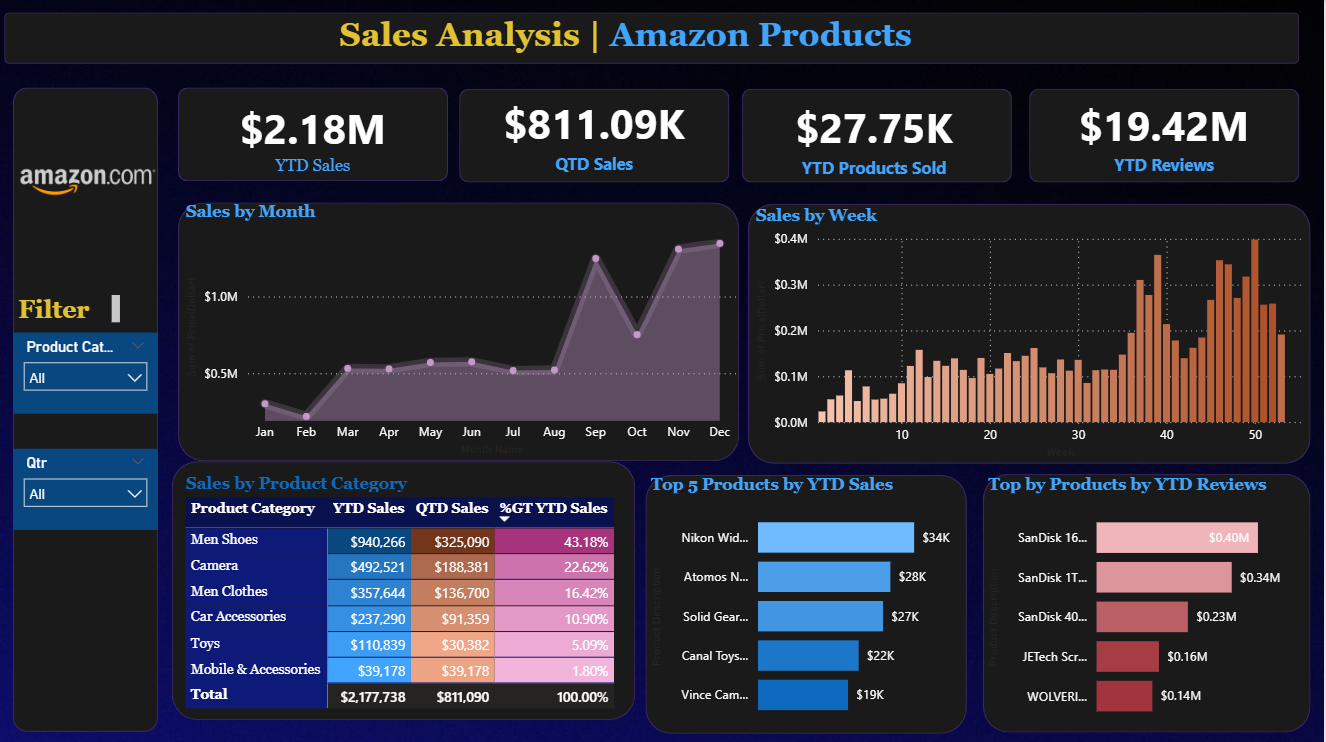

The page's visual inventory and layout, read from the dashboard file:
{"tool":"powerbi","page":{"name":"Page 1","canvas":[1280,720],"ordinal":0},"visuals":[{"type":"shape","box":[6,12.1,1249.9,49.5],"z":0},{"type":"textbox","box":[324.5,9.7,580.3,53.1],"z":1000},{"type":"shape","box":[14.5,84.5,140,622],"z":2000},{"type":"shape","box":[173.7,84.5,260.6,90.5],"z":3000},{"type":"card","fields":{"Values":["Amazon_Data.YTD Sales"]},"box":[173.7,86.9,260.6,90.5],"z":4000},{"type":"shape","box":[445.2,85.7,260.6,90.5],"z":5000},{"type":"shape","box":[717.8,85.7,260.6,90.5],"z":6000},{"type":"shape","box":[995.3,85.7,260.6,90.5],"z":7000},{"type":"card","fields":{"Values":["Amazon_Data.QTD Sales"]},"box":[445.2,83.2,260.6,91.7],"z":8000},{"type":"card","fields":{"Values":["Amazon_Data.YTD Products Sold"]},"box":[715.4,89.3,260.6,88.1],"z":9000},{"type":"card","fields":{"Values":["Amazon_Data.YTD Reviews"]},"box":[995.3,84.5,260.6,92.9],"z":10000},{"type":"shape","box":[173.7,195.4,541.7,249.7],"z":11000},{"type":"areaChart","title":"Sales by Month","fields":{"Category":["Date Table.Month Name"],"Y":["Sum(Amazon_Data.Price(Dollar))"]},"box":[176.1,195.4,541.7,249.7],"z":12000},{"type":"shape","box":[723.9,196.6,542.9,250.9],"z":13000},{"type":"clusteredColumnChart","title":"Sales by Week","fields":{"Category":["Date Table.Week"],"Y":["Sum(Amazon_Data.Price(Dollar))"]},"box":[725.9,199,542,248.4],"z":14000},{"type":"shape","box":[167.4,444.6,447.3,249.7],"z":15000},{"type":"pivotTable","title":"Sales by Product Category","fields":{"Rows":["Amazon_Data.Product Category"],"Values":["Amazon_Data.YTD Sales1","Amazon_Data.QTD Sales","Amazon_Data.YTD Sales"]},"box":[175.6,456.9,439.1,234.6],"z":16000},{"type":"shape","box":[624.9,458.4,310.1,249.7],"z":17000},{"type":"shape","box":[950.7,457.2,316.1,249.7],"z":18000},{"type":"clusteredBarChart","title":"Top 5 Products by YTD Sales ","fields":{"Category":["Amazon_Data.Product Description"],"Y":["Amazon_Data.YTD Sales"]},"box":[624.4,458.3,310.1,248.4],"z":19000},{"type":"clusteredBarChart","title":"Top by Products by YTD Reviews","fields":{"Category":["Amazon_Data.Product Description"],"Y":["Amazon_Data.YTD Reviews"]},"box":[950.7,458.4,317.3,249.7],"z":20000},{"type":"slicer","fields":{"Values":["Amazon_Data.Product Category"]},"box":[14.5,320.9,139.9,78.4],"z":21000},{"type":"slicer","fields":{"Values":["Date Table.Qtr"]},"box":[14.5,433.1,139.9,78.4],"z":22000},{"type":"textbox","box":[14.5,279.9,108.6,37.4],"z":23000},{"type":"image","box":[0,83.2,173.7,184.6],"z":24000}]}

Visuals, with their boxes in screenshot pixels (x1, y1, x2, y2), scaled from the page's 1280x720 canvas onto the 1326x742 screenshot:
shape: bbox=[6, 12, 1301, 63]
textbox: bbox=[336, 10, 937, 65]
shape: bbox=[15, 87, 160, 728]
shape: bbox=[180, 87, 450, 180]
card - Amazon_Data.YTD Sales: bbox=[180, 90, 450, 183]
shape: bbox=[461, 88, 731, 182]
shape: bbox=[744, 88, 1014, 182]
shape: bbox=[1031, 88, 1301, 182]
card - Amazon_Data.QTD Sales: bbox=[461, 86, 731, 180]
card - Amazon_Data.YTD Products Sold: bbox=[741, 92, 1011, 183]
card - Amazon_Data.YTD Reviews: bbox=[1031, 87, 1301, 183]
shape: bbox=[180, 201, 741, 459]
"Sales by Month" areaChart: bbox=[182, 201, 744, 459]
shape: bbox=[750, 203, 1312, 461]
"Sales by Week" clusteredColumnChart: bbox=[752, 205, 1313, 461]
shape: bbox=[173, 458, 637, 716]
"Sales by Product Category" pivotTable: bbox=[182, 471, 637, 713]
shape: bbox=[647, 472, 969, 730]
shape: bbox=[985, 471, 1312, 728]
"Top 5 Products by YTD Sales " clusteredBarChart: bbox=[647, 472, 968, 728]
"Top by Products by YTD Reviews" clusteredBarChart: bbox=[985, 472, 1314, 730]
slicer - Amazon_Data.Product Category: bbox=[15, 331, 160, 412]
slicer - Date Table.Qtr: bbox=[15, 446, 160, 527]
textbox: bbox=[15, 288, 128, 327]
image: bbox=[0, 86, 180, 276]
